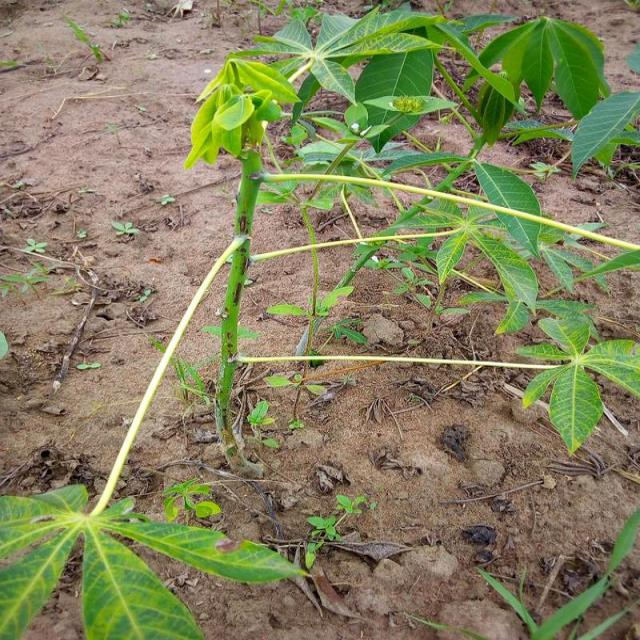cassava leaf: (514, 310, 638, 456), (469, 15, 608, 122), (81, 523, 205, 638), (183, 56, 301, 170), (472, 158, 542, 259), (569, 90, 638, 182)
